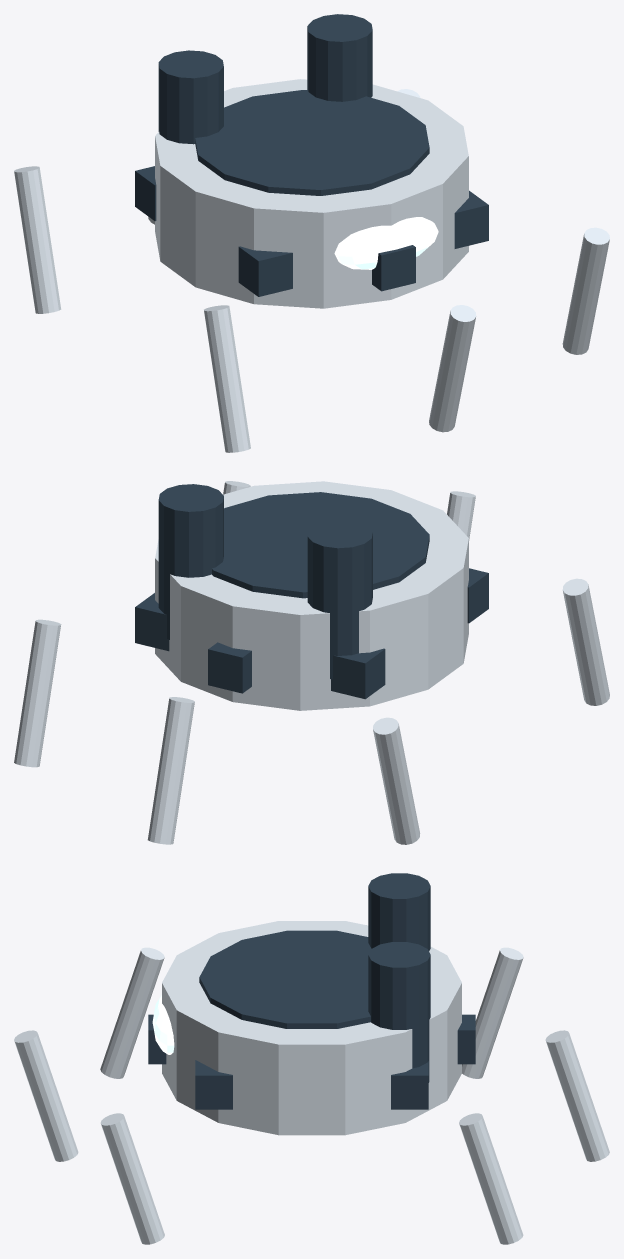
File: FrostCrawler.glb
3 renders of one model, top to bottom at view 1: azimuth 30°, elevation 25°; view 2: azimuth 150°, elevation 25°; view 3: azimuth 270°, elevation 25°, orthographic. The views are drawn at different scales.
Parts seen in each view (by area): view 1: PlutoIce, Dark.032, Dark.033, Dark.034, PlutoIce.001, PlutoIce.006, PlutoIce.003, PlutoIce.002, FrostGlow, Dark.035, Dark.036, Dark.037 (+1 smaller); view 2: PlutoIce, Dark.032, Dark.033, Dark.034, PlutoIce.004, PlutoIce.005, PlutoIce.006, PlutoIce.001, Dark.040, Dark.039, Dark.038, Dark.035 (+1 smaller); view 3: PlutoIce, Dark.032, Dark.034, Dark.033, PlutoIce.001, PlutoIce.005, PlutoIce.002, PlutoIce.003, PlutoIce.004, PlutoIce.006, Dark.037, Dark.038 (+3 smaller).
Part boxes in pixels (left/top/right/bottom): PlutoIce: left=155, top=79, right=468, bottom=308; Dark.032: left=195, top=90, right=429, bottom=195; Dark.033: left=158, top=50, right=223, bottom=144; Dark.034: left=307, top=14, right=372, bottom=101; PlutoIce.001: left=204, top=305, right=250, bottom=452; PlutoIce.006: left=14, top=166, right=61, bottom=313; PlutoIce.003: left=562, top=227, right=609, bottom=354; PlutoIce.002: left=429, top=305, right=476, bottom=432; FrostGlow: left=334, top=217, right=438, bottom=269; Dark.035: left=238, top=246, right=292, bottom=296; Dark.036: left=372, top=245, right=415, bottom=291; Dark.037: left=454, top=190, right=488, bottom=248; PlutoIce: left=155, top=481, right=468, bottom=710; Dark.032: left=212, top=492, right=429, bottom=598; Dark.033: left=307, top=520, right=372, bottom=679; Dark.034: left=158, top=484, right=223, bottom=639; PlutoIce.004: left=14, top=619, right=61, bottom=767; PlutoIce.005: left=147, top=697, right=194, bottom=844; PlutoIce.006: left=373, top=717, right=420, bottom=844; PlutoIce.001: left=562, top=578, right=609, bottom=705; Dark.040: left=331, top=648, right=385, bottom=699; Dark.039: left=208, top=642, right=251, bottom=693; Dark.038: left=135, top=593, right=169, bottom=651; Dark.035: left=467, top=568, right=488, bottom=623; PlutoIce: left=162, top=921, right=461, bottom=1135; Dark.032: left=199, top=930, right=371, bottom=1028; Dark.034: left=368, top=942, right=430, bottom=1082; Dark.033: left=368, top=873, right=430, bottom=950; PlutoIce.001: left=100, top=947, right=164, bottom=1078; PlutoIce.005: left=545, top=1030, right=609, bottom=1161; PlutoIce.002: left=14, top=1030, right=78, bottom=1161; PlutoIce.003: left=100, top=1113, right=164, bottom=1244; PlutoIce.004: left=459, top=1113, right=523, bottom=1244; PlutoIce.006: left=462, top=947, right=523, bottom=1078; Dark.037: left=195, top=1060, right=232, bottom=1109; Dark.038: left=391, top=1061, right=428, bottom=1109.
Bounding box in the file's own units: 1.33 × 0.842 × 1.91.
